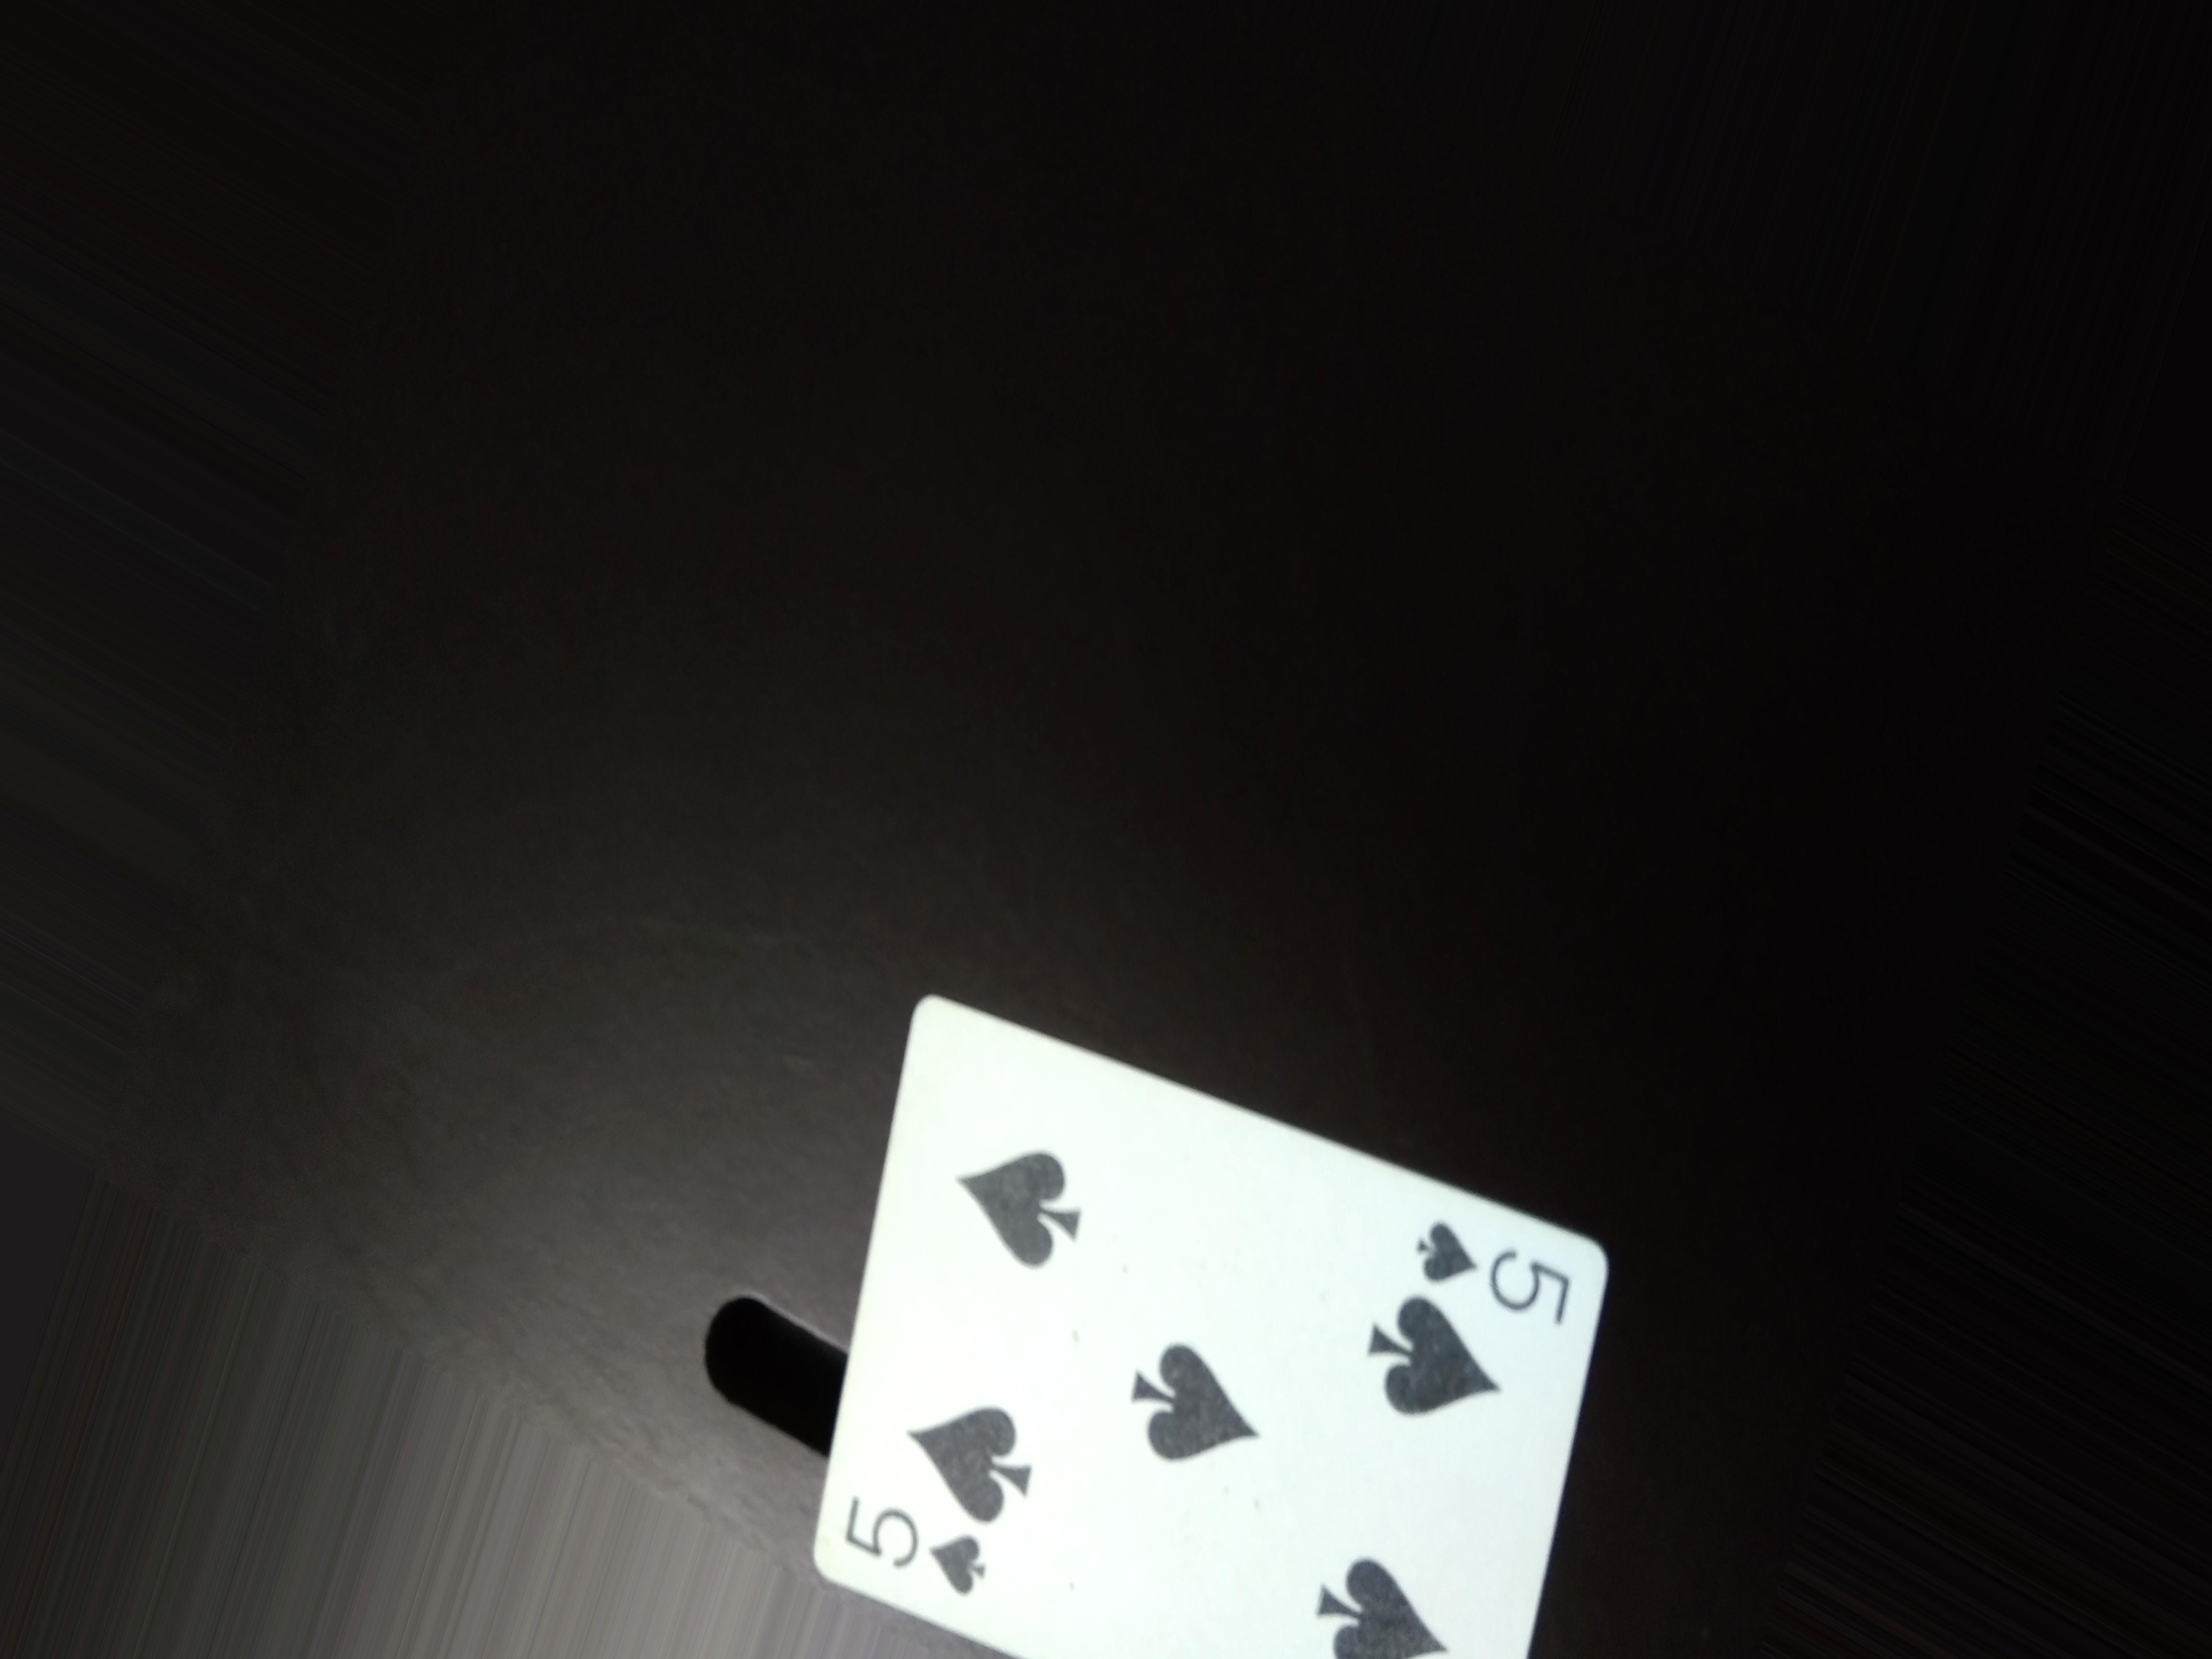5S: (1404, 1208, 1597, 1328)
